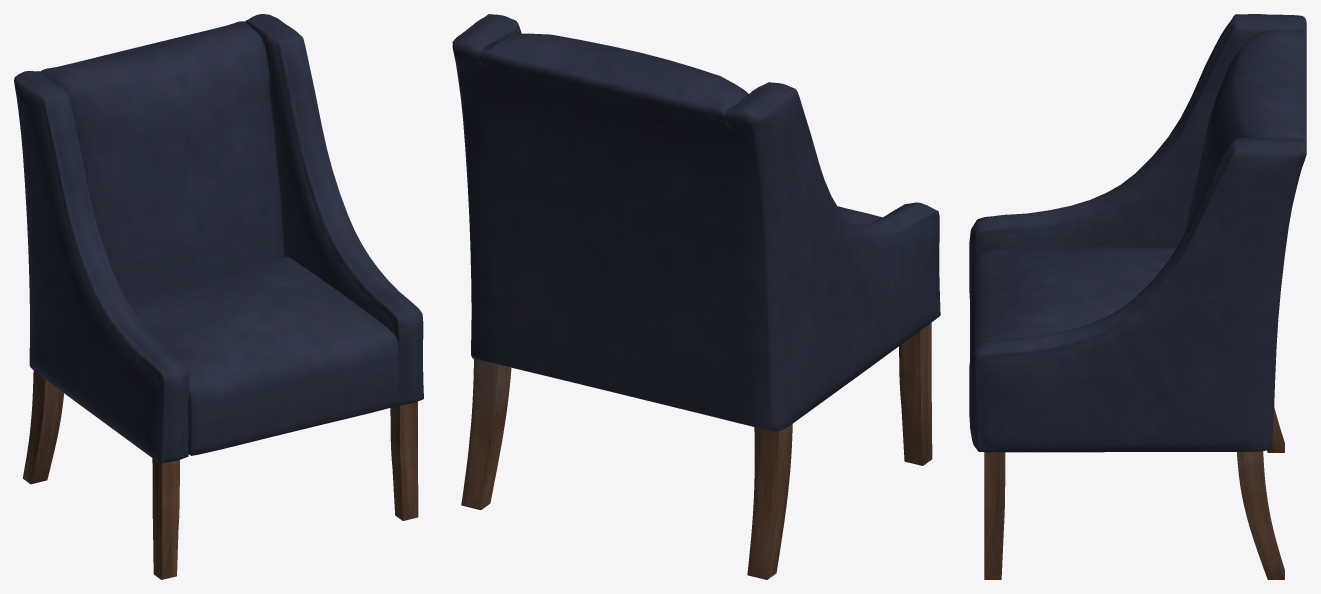
The model's file is B07F4PXFWZ.glb.
The picture shows the model from 3 angles, left to right: view 1: azimuth 30°, elevation 25°; view 2: azimuth 150°, elevation 25°; view 3: azimuth 270°, elevation 25°; orthographic projection. The views are drawn at different scales.
Visible parts, largest first — view 1: B07F4PXFWZ; view 2: B07F4PXFWZ; view 3: B07F4PXFWZ.
Part boxes in pixels (x1,y1,x2,y2): B07F4PXFWZ: (14, 14, 423, 579); B07F4PXFWZ: (452, 14, 940, 579); B07F4PXFWZ: (969, 14, 1306, 579).
Size of the model in its own units: 0.6286 by 0.8954 by 0.6286.
Materials: 1 (1 with a texture image).
